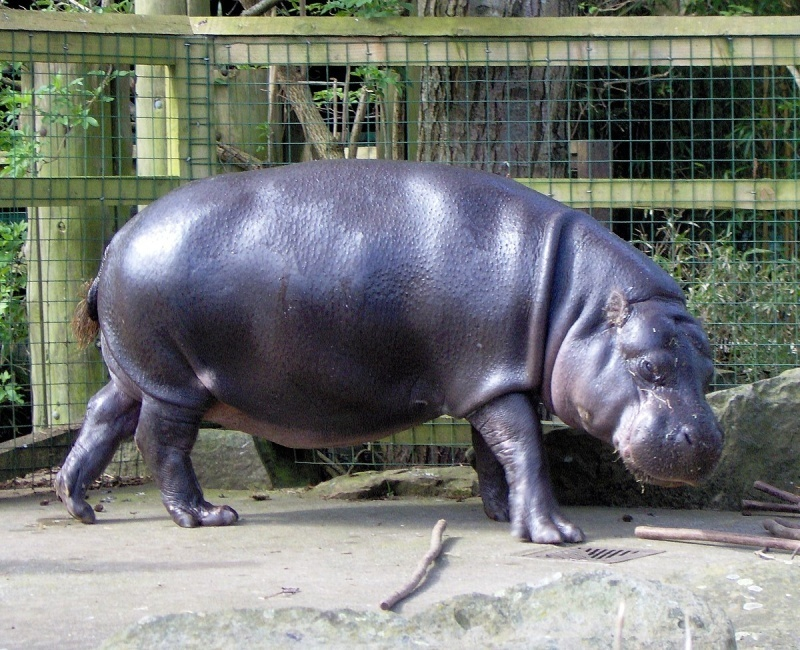hipopotamo: (38, 152, 740, 556)
